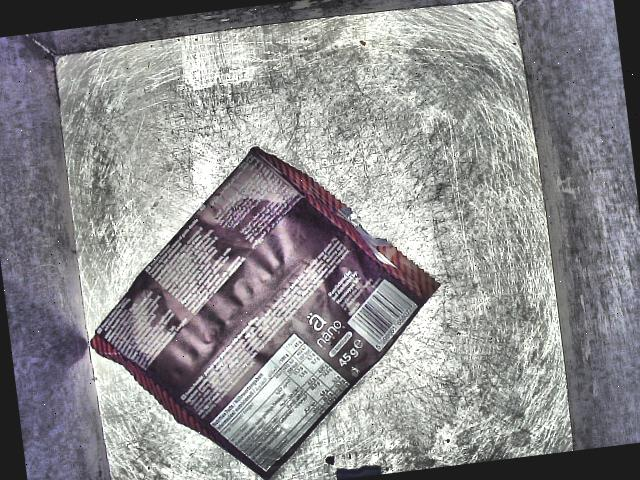Plastic: (61, 111, 471, 480)
